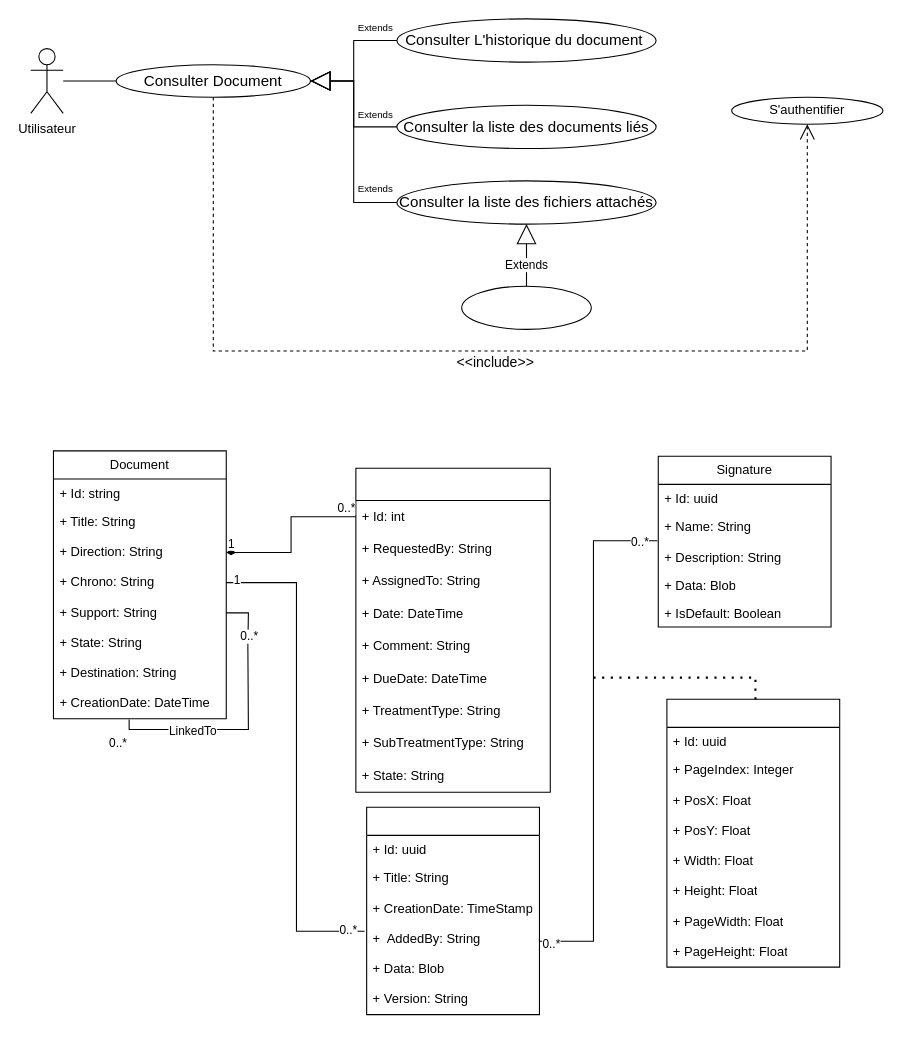
The diagram is 902 pixels wide and 1037 high, and some of its shapes have lost their labels. Each missing label, with the box of its shape:
File: (366, 806, 539, 1015)
FileSignature: (666, 698, 840, 967)
signer le fichier: (461, 285, 591, 329)
Task: (355, 467, 550, 792)
